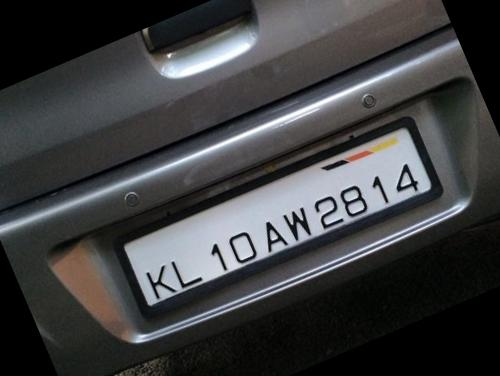plate: (120, 111, 458, 325)
